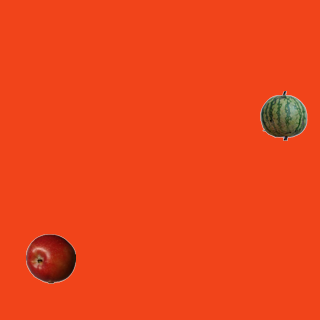Apple Braeburn: (25, 233, 75, 283)
Watermelon: (258, 90, 308, 140)
